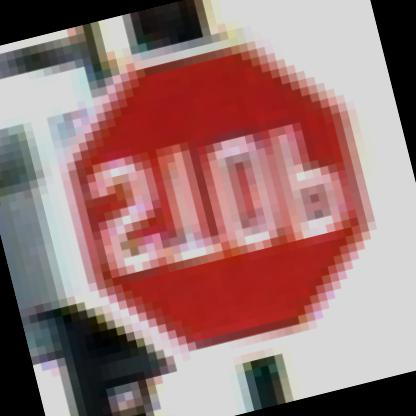stop: (10, 0, 415, 392)
